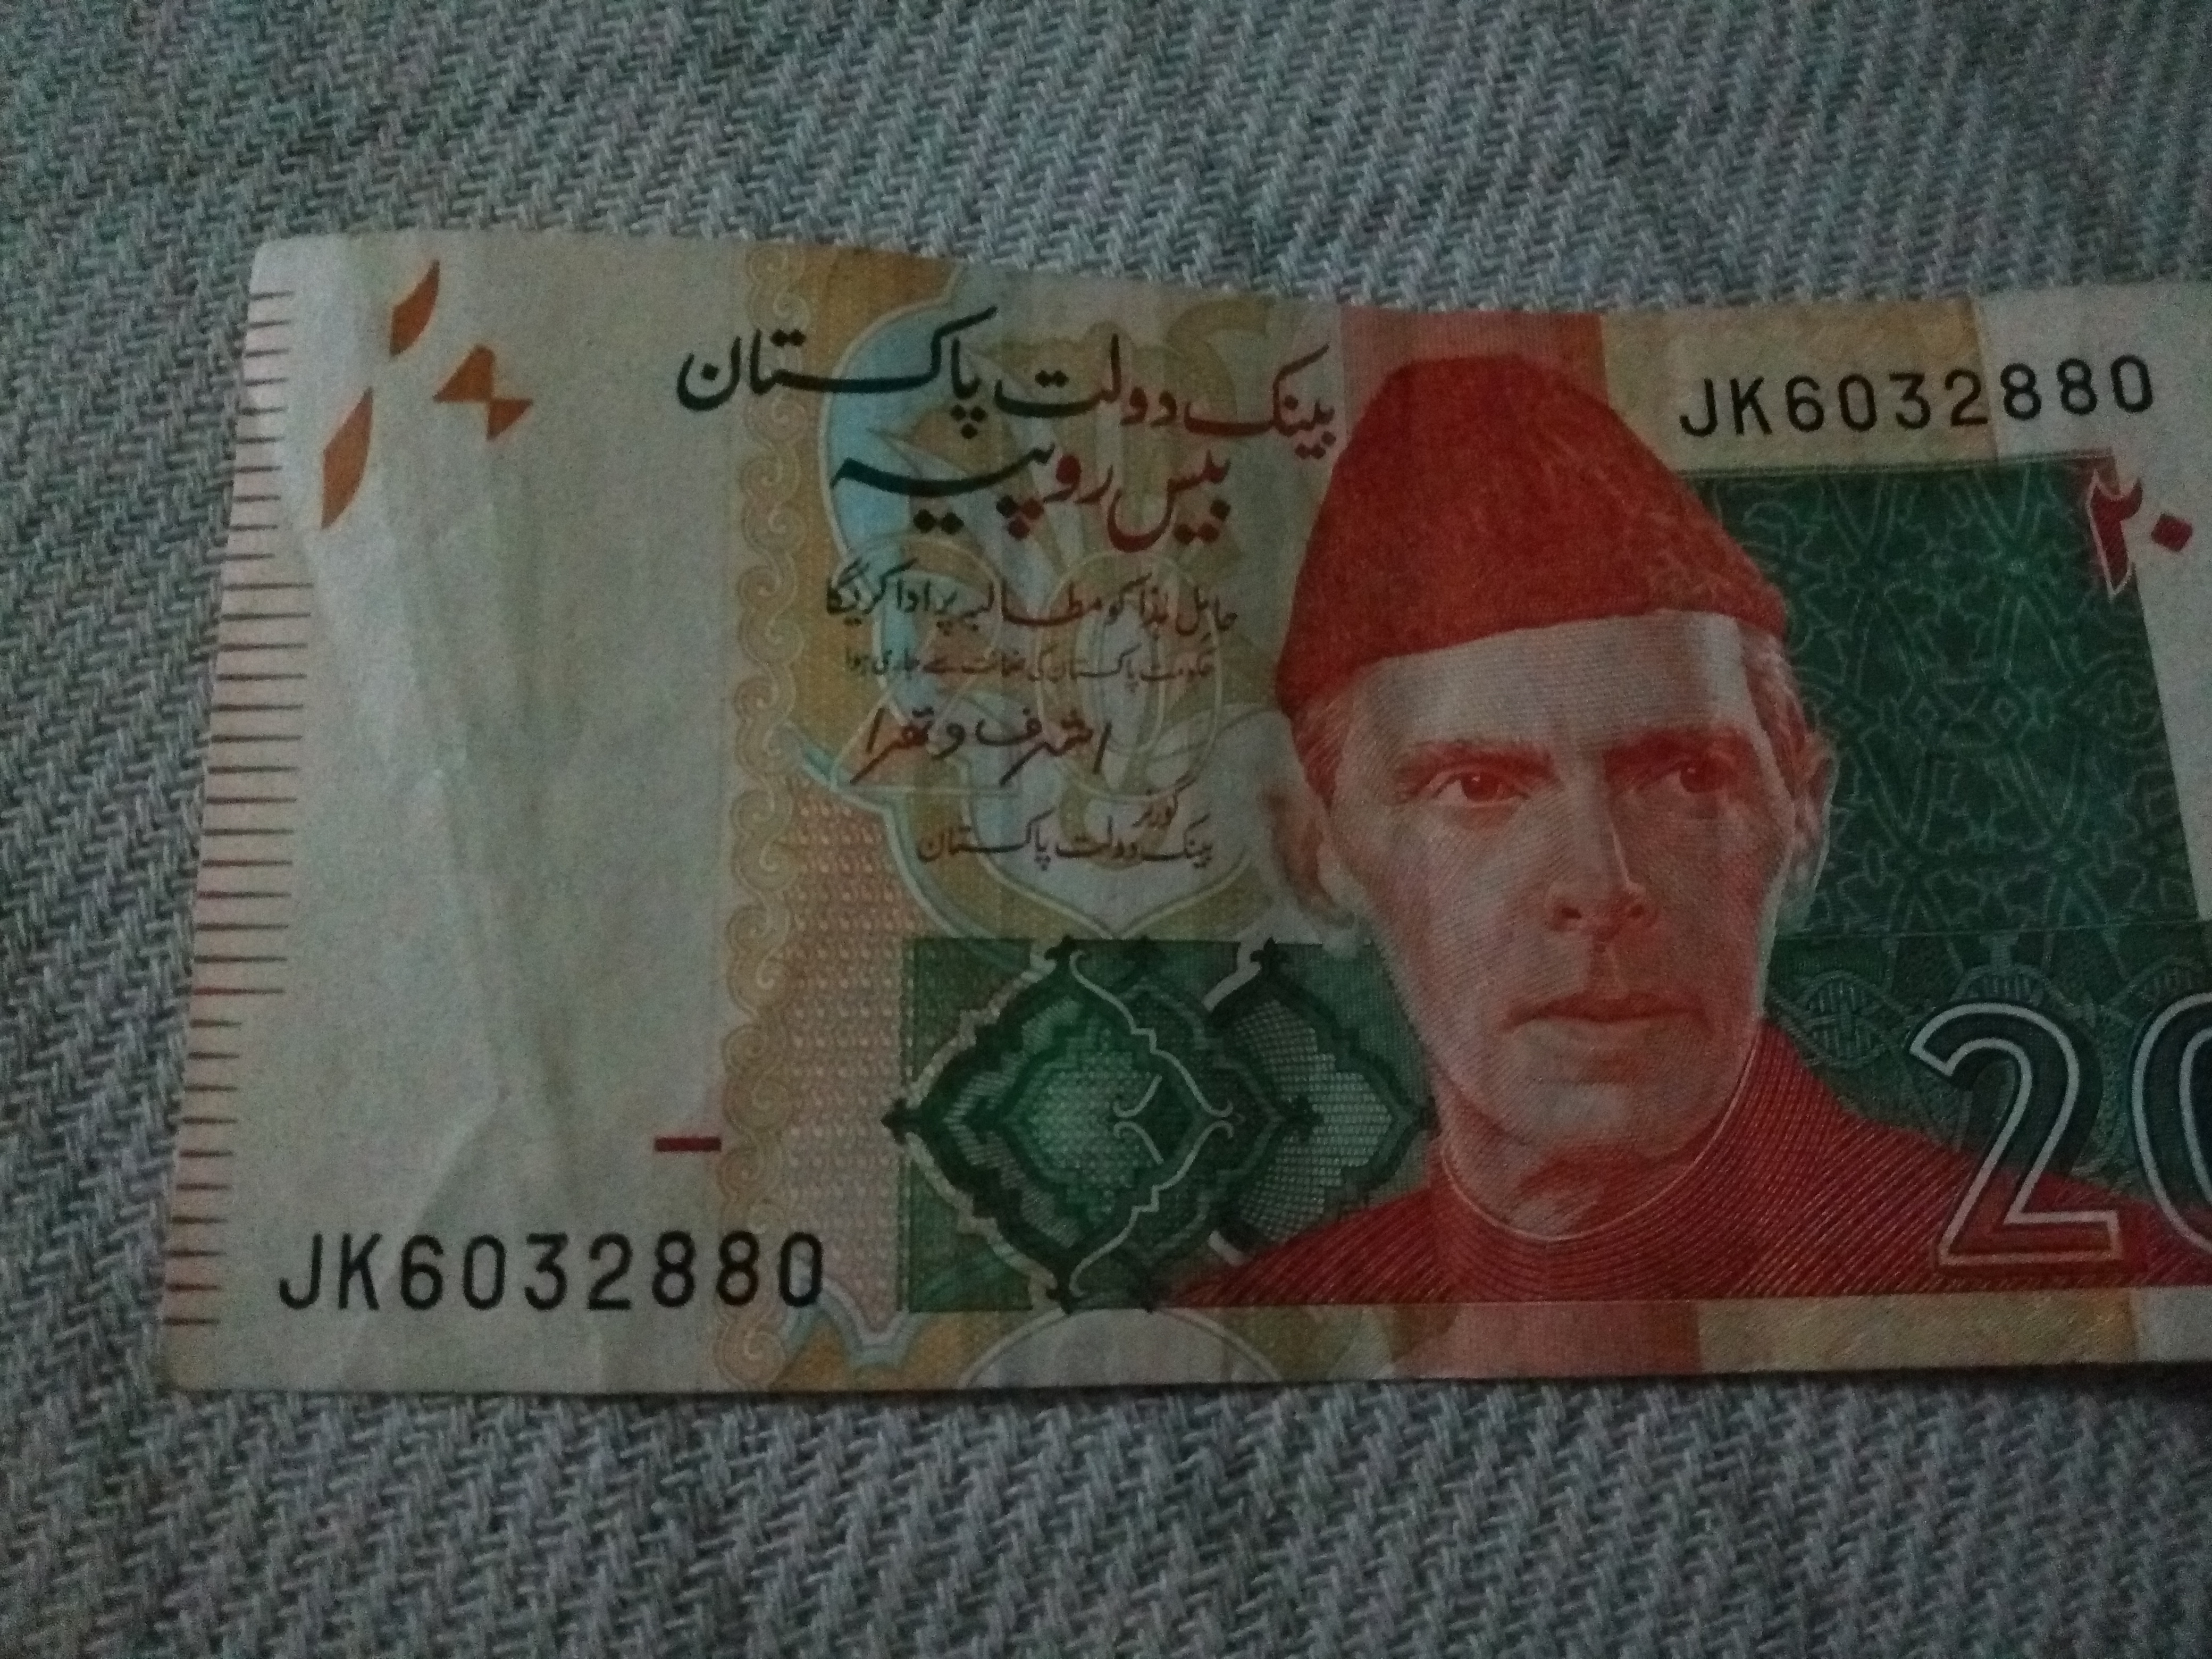20 rupee: (68, 166, 2200, 1443)
